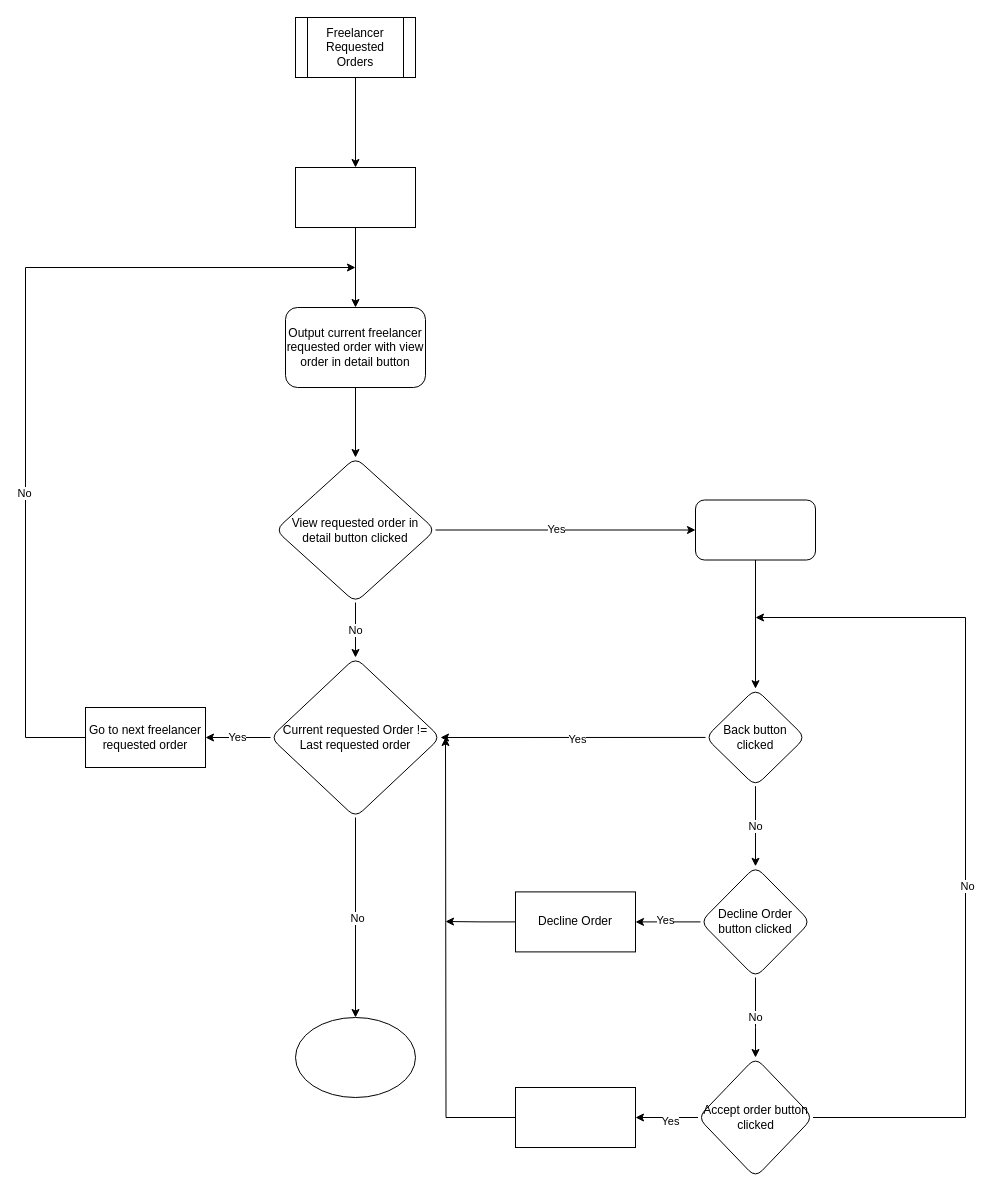
Some shapes in this 991 by 1195 pixel diagram are drawn without their labels. Each missing label, with the centre of its shape:
"Accept Order" belongs at [575,1117].
"Fetch requested orders linked to freelancer" belongs at [355,197].
"Output requested order in more detail" belongs at [755,529].
"Stop" belongs at [355,1057].
